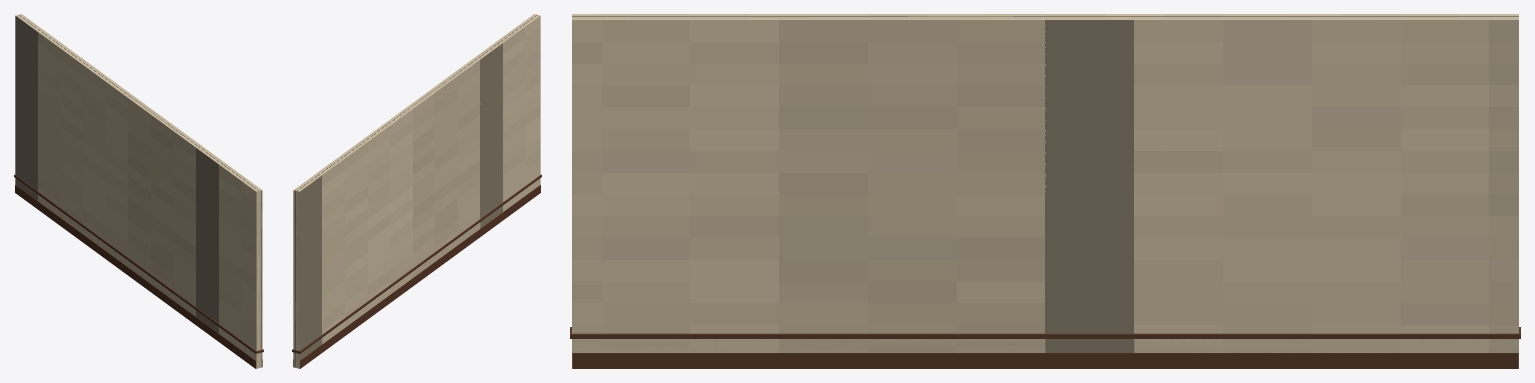
The model's file is wing_b.glb.
3 views of the same model, side by side, from view 1: azimuth 30°, elevation 25°; view 2: azimuth 150°, elevation 25°; view 3: azimuth 270°, elevation 25° (orthographic). The views are drawn at different scales.
Visible parts, largest first — view 1: Box1, Box2, Box3, Box4; view 2: Box1, Box2, Box3, Box4; view 3: Box1, Box2, Box3, Box4.
Boxes of the visible parts, box(x1,y1,x2,y2) form: Box1: box(15, 14, 262, 368); Box2: box(15, 185, 262, 368); Box3: box(15, 179, 262, 367); Box4: box(14, 174, 263, 353); Box1: box(293, 14, 540, 368); Box2: box(293, 185, 540, 368); Box3: box(293, 179, 540, 368); Box4: box(292, 174, 541, 353); Box1: box(572, 14, 1518, 367); Box2: box(572, 353, 1518, 368); Box3: box(572, 339, 1518, 368); Box4: box(570, 327, 1520, 338).
Bounding box in the file's own units: 0.19 × 4 × 9.89.
2 materials, 1 textured.
